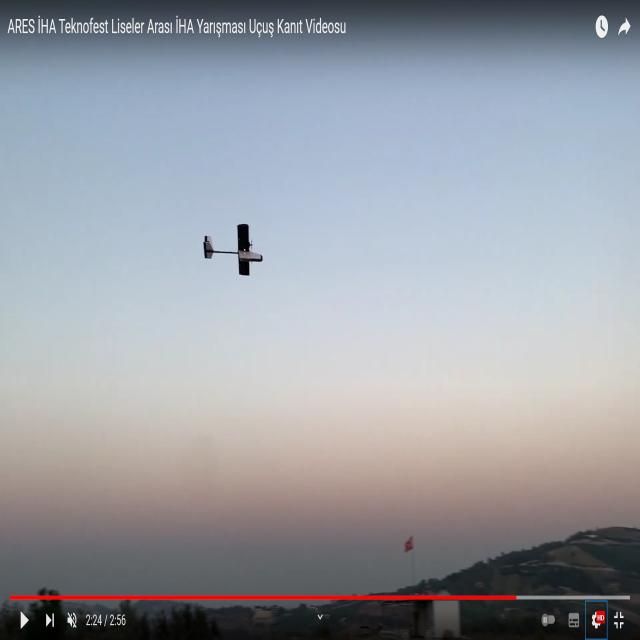iha: (204, 225, 264, 272)
